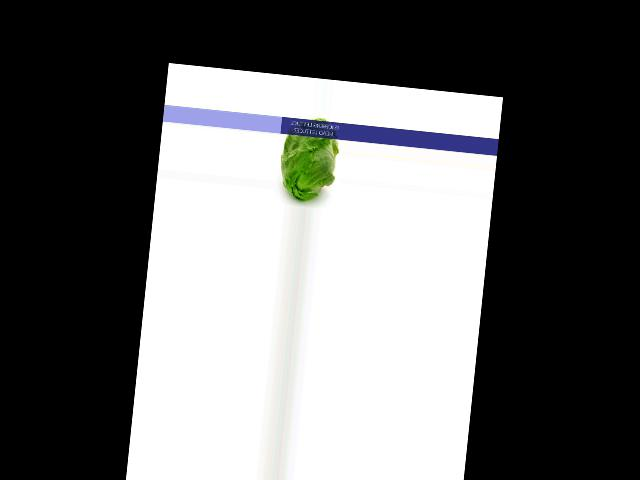lettuce: (278, 114, 341, 207)
